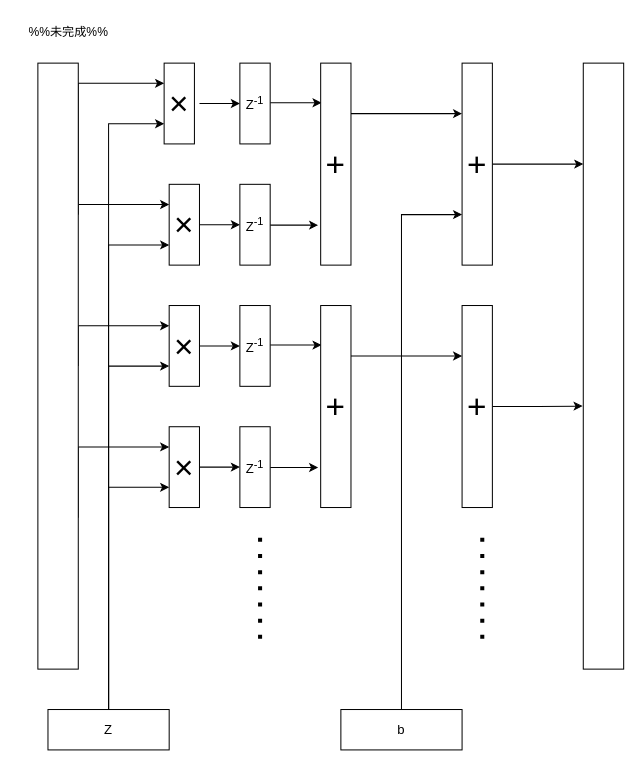
Image size: 641x768. Some labels were removed from this diagram. The shapes that lost their labels are listed below. From the top down, each one's centre as x and y in pixels, then its label:
At (57,365): "waight3".
At (603,365): "Output Data(Z 2 )".
